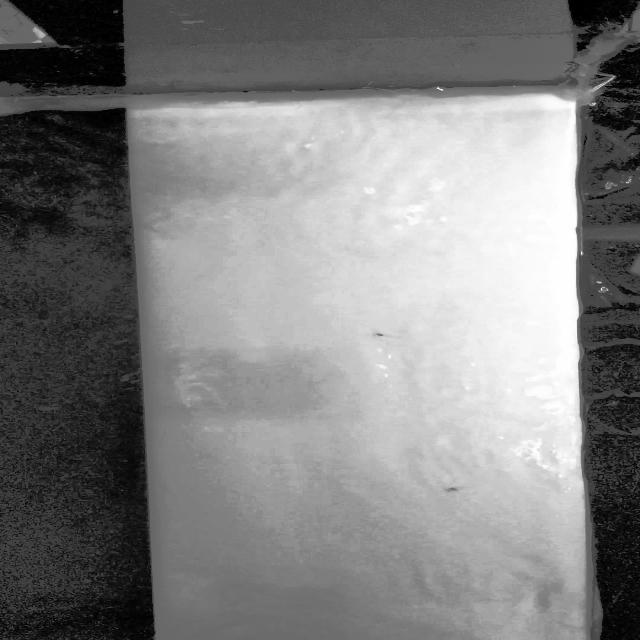shrimp: (356, 322, 408, 348), (438, 478, 481, 501)
